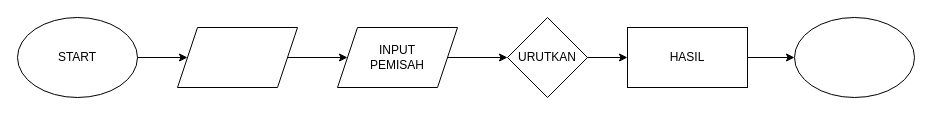
The diagram is 932 pixels wide and 115 high, and some of its shapes have lost their labels. The centre of each missing label's shape, as x and y in pixels:
"END" belongs at (854,57).
"INPUT VARIABEL" belongs at (237,57).
